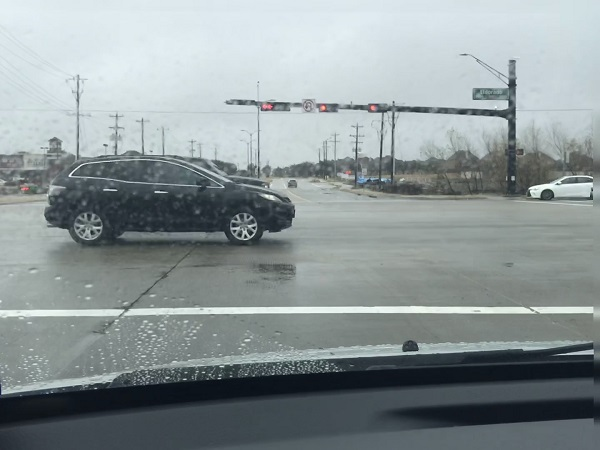car: (45, 159, 296, 245), (527, 172, 592, 200), (289, 178, 295, 185)
